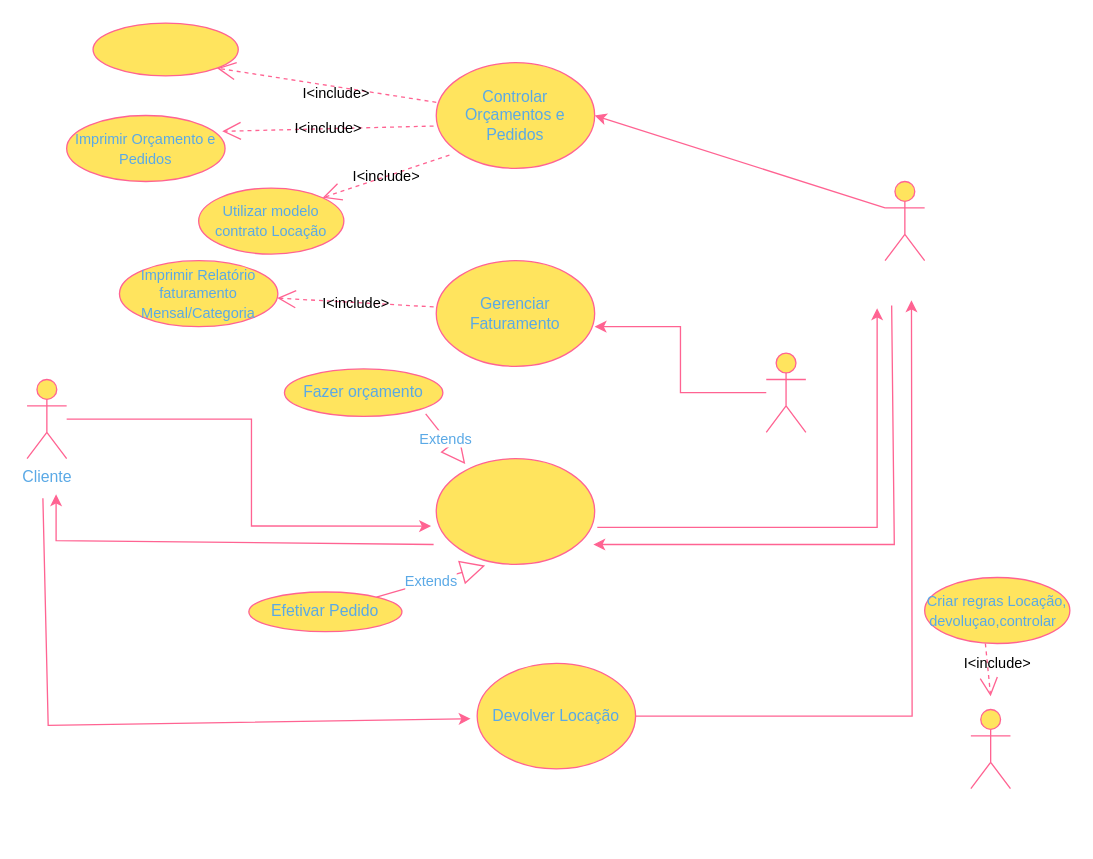
The diagram is 1093 pixels wide and 859 high, and some of its shapes have lost their labels. The shapes that lost their labels are listed below. From the top down, each one's box as (x1, y1, x2, y2) in pixels, then its label:
(92, 22, 238, 76): Registrar informações
(884, 180, 925, 261): Atendente
(765, 352, 806, 432): Gerente Administrativo
(435, 457, 595, 564): Locar
(970, 708, 1010, 789): Gerente Geral
